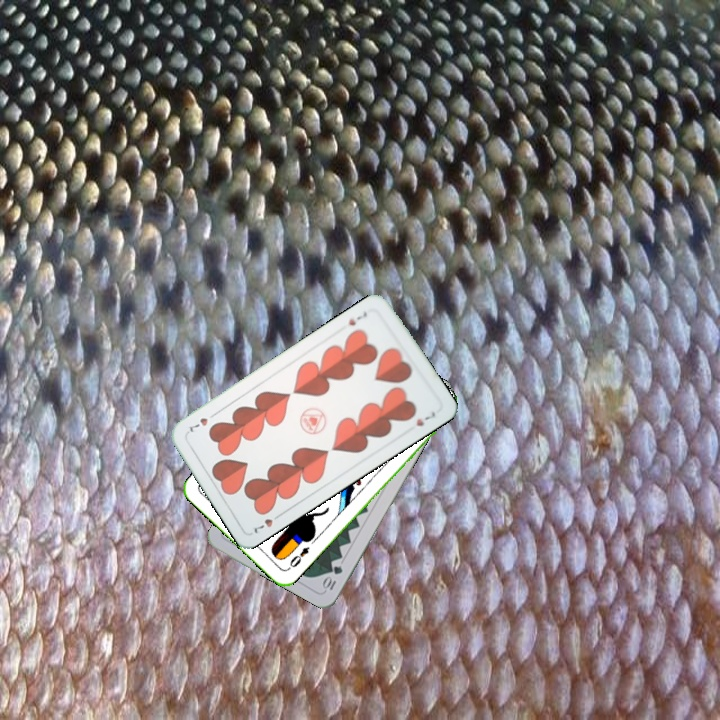EO: (286, 542, 312, 570)
G10: (319, 562, 345, 593)
H7: (250, 509, 284, 536), (344, 308, 370, 328)
